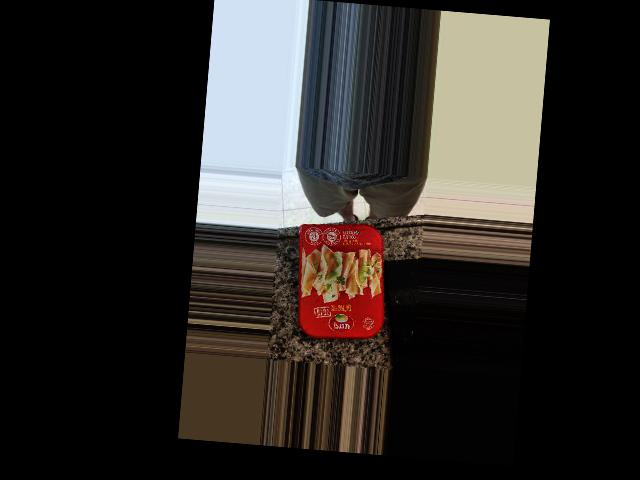cheese: (303, 196, 404, 310)
